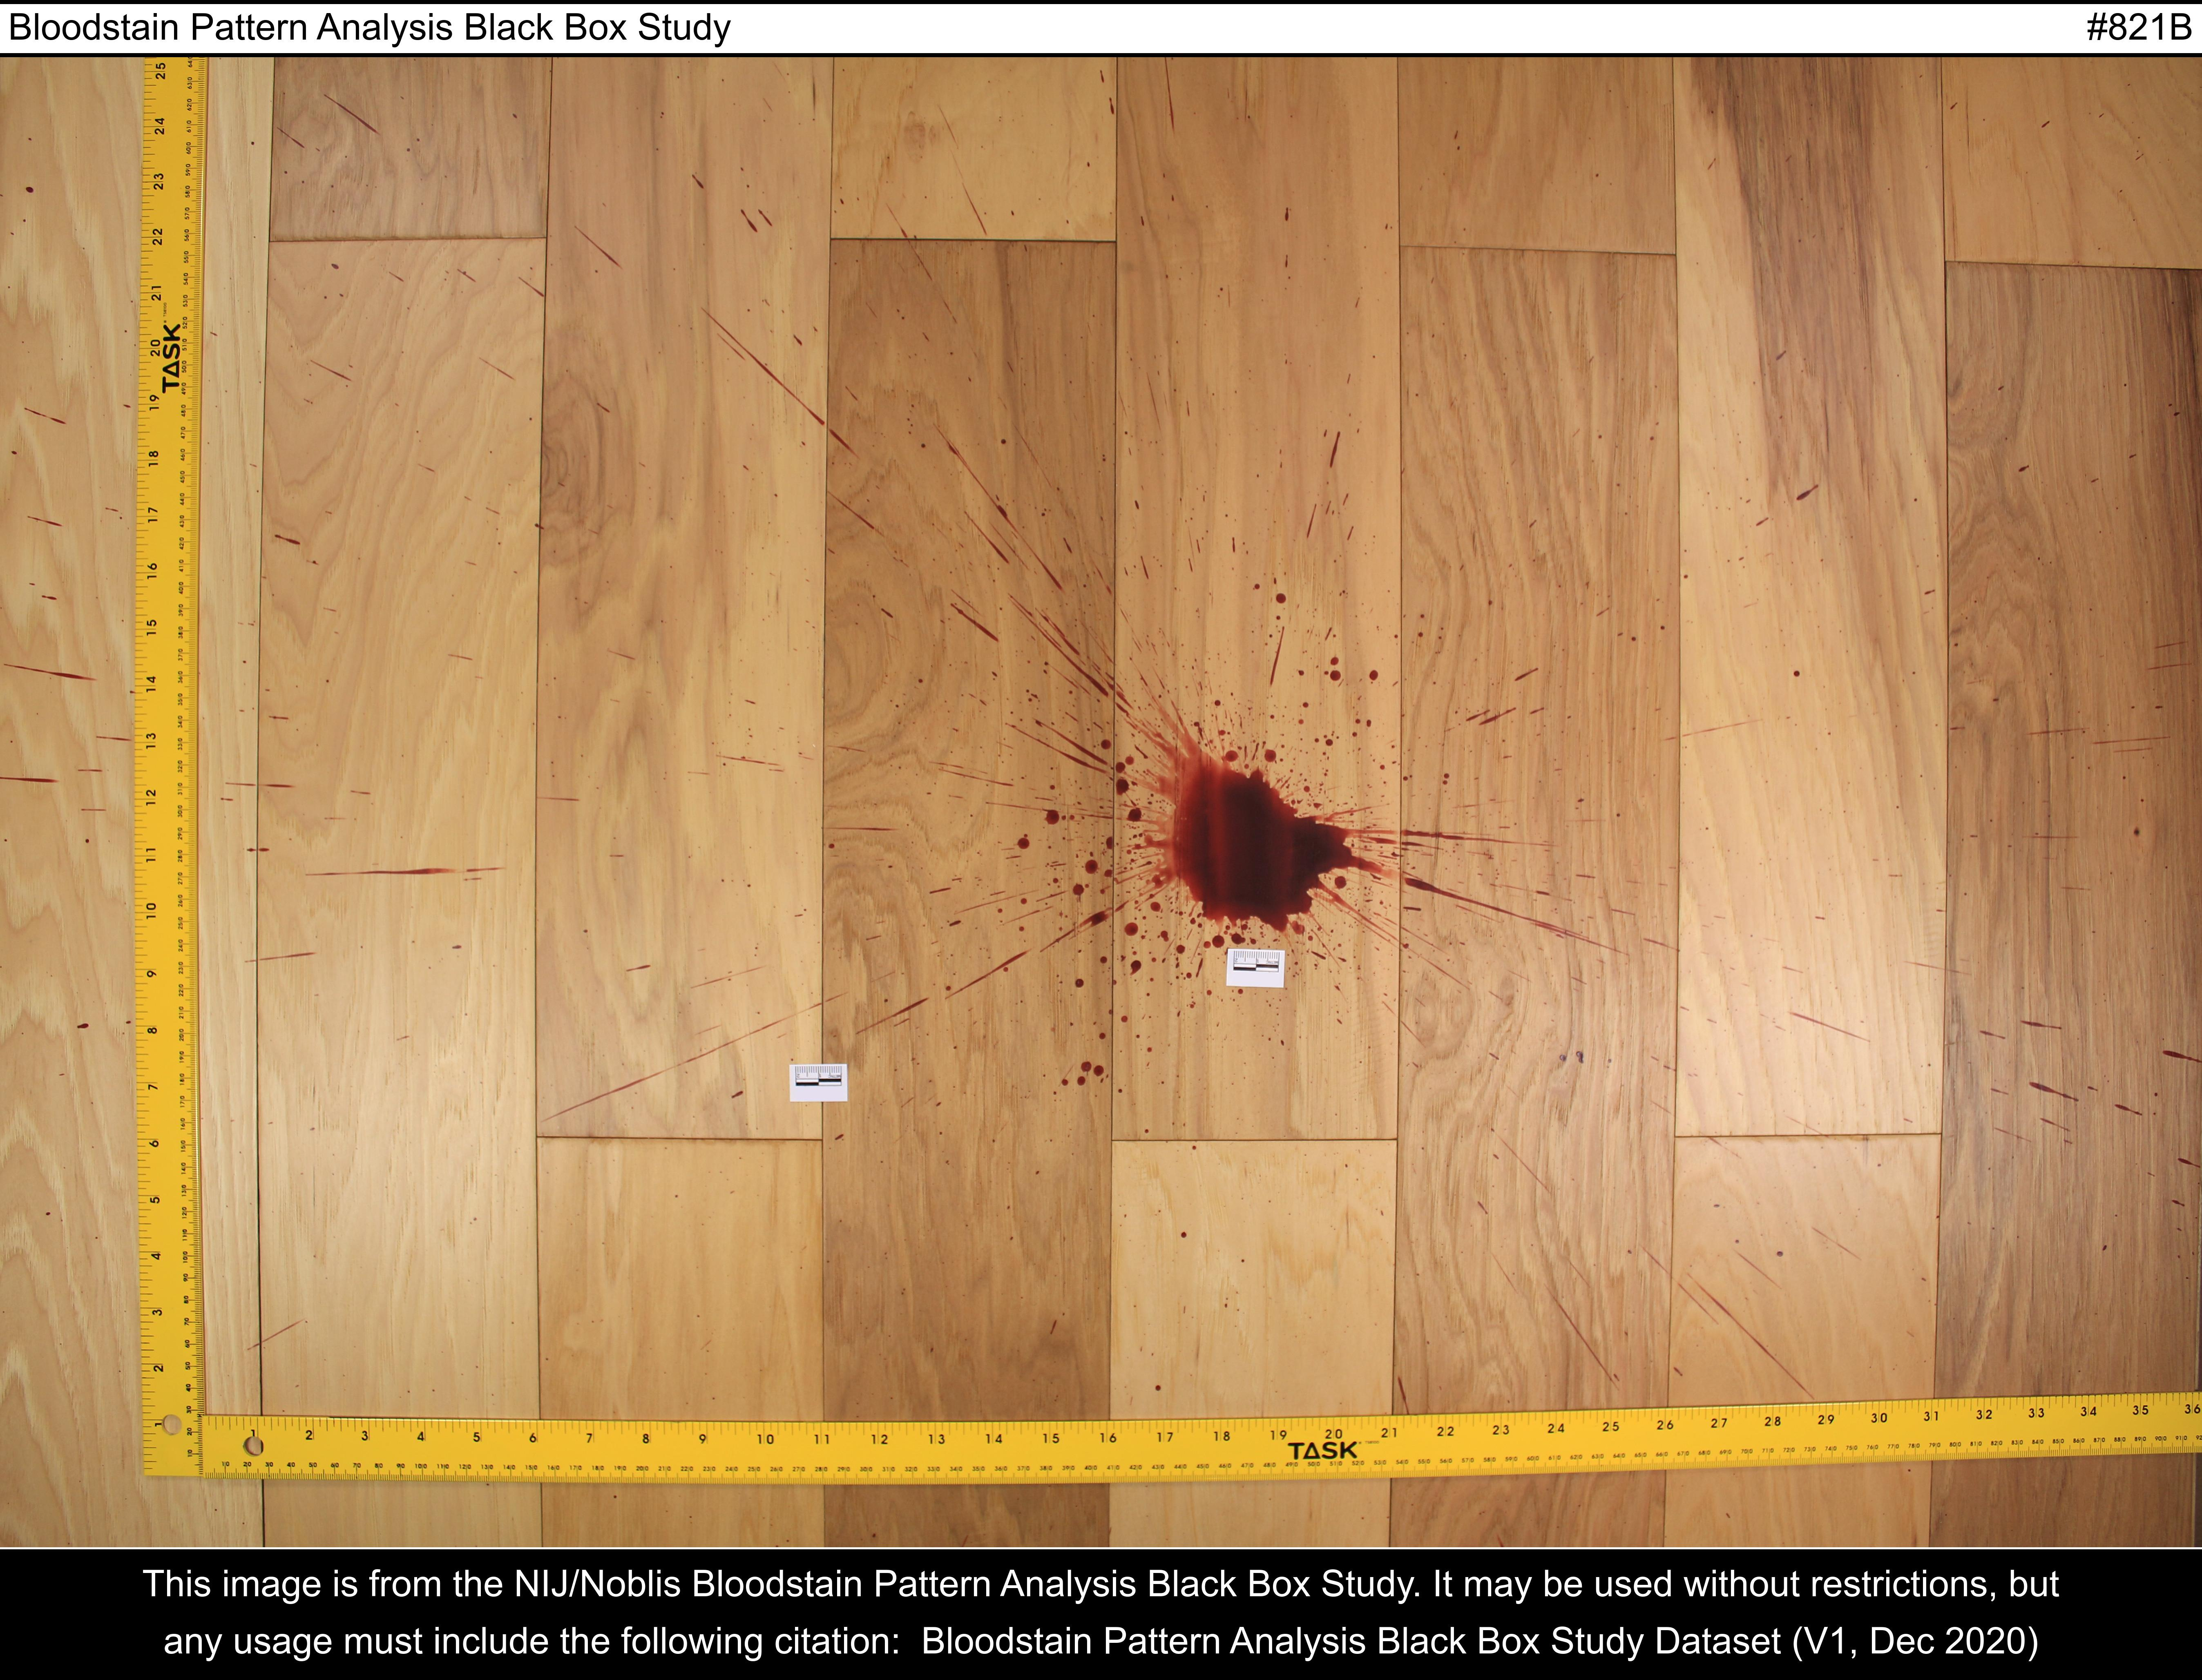Impact: (224, 104, 2202, 1297)
